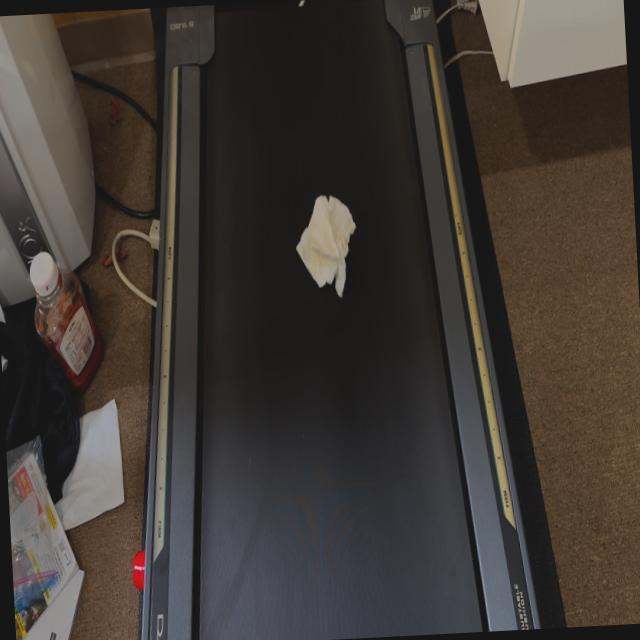Recycle: (291, 186, 371, 306)
